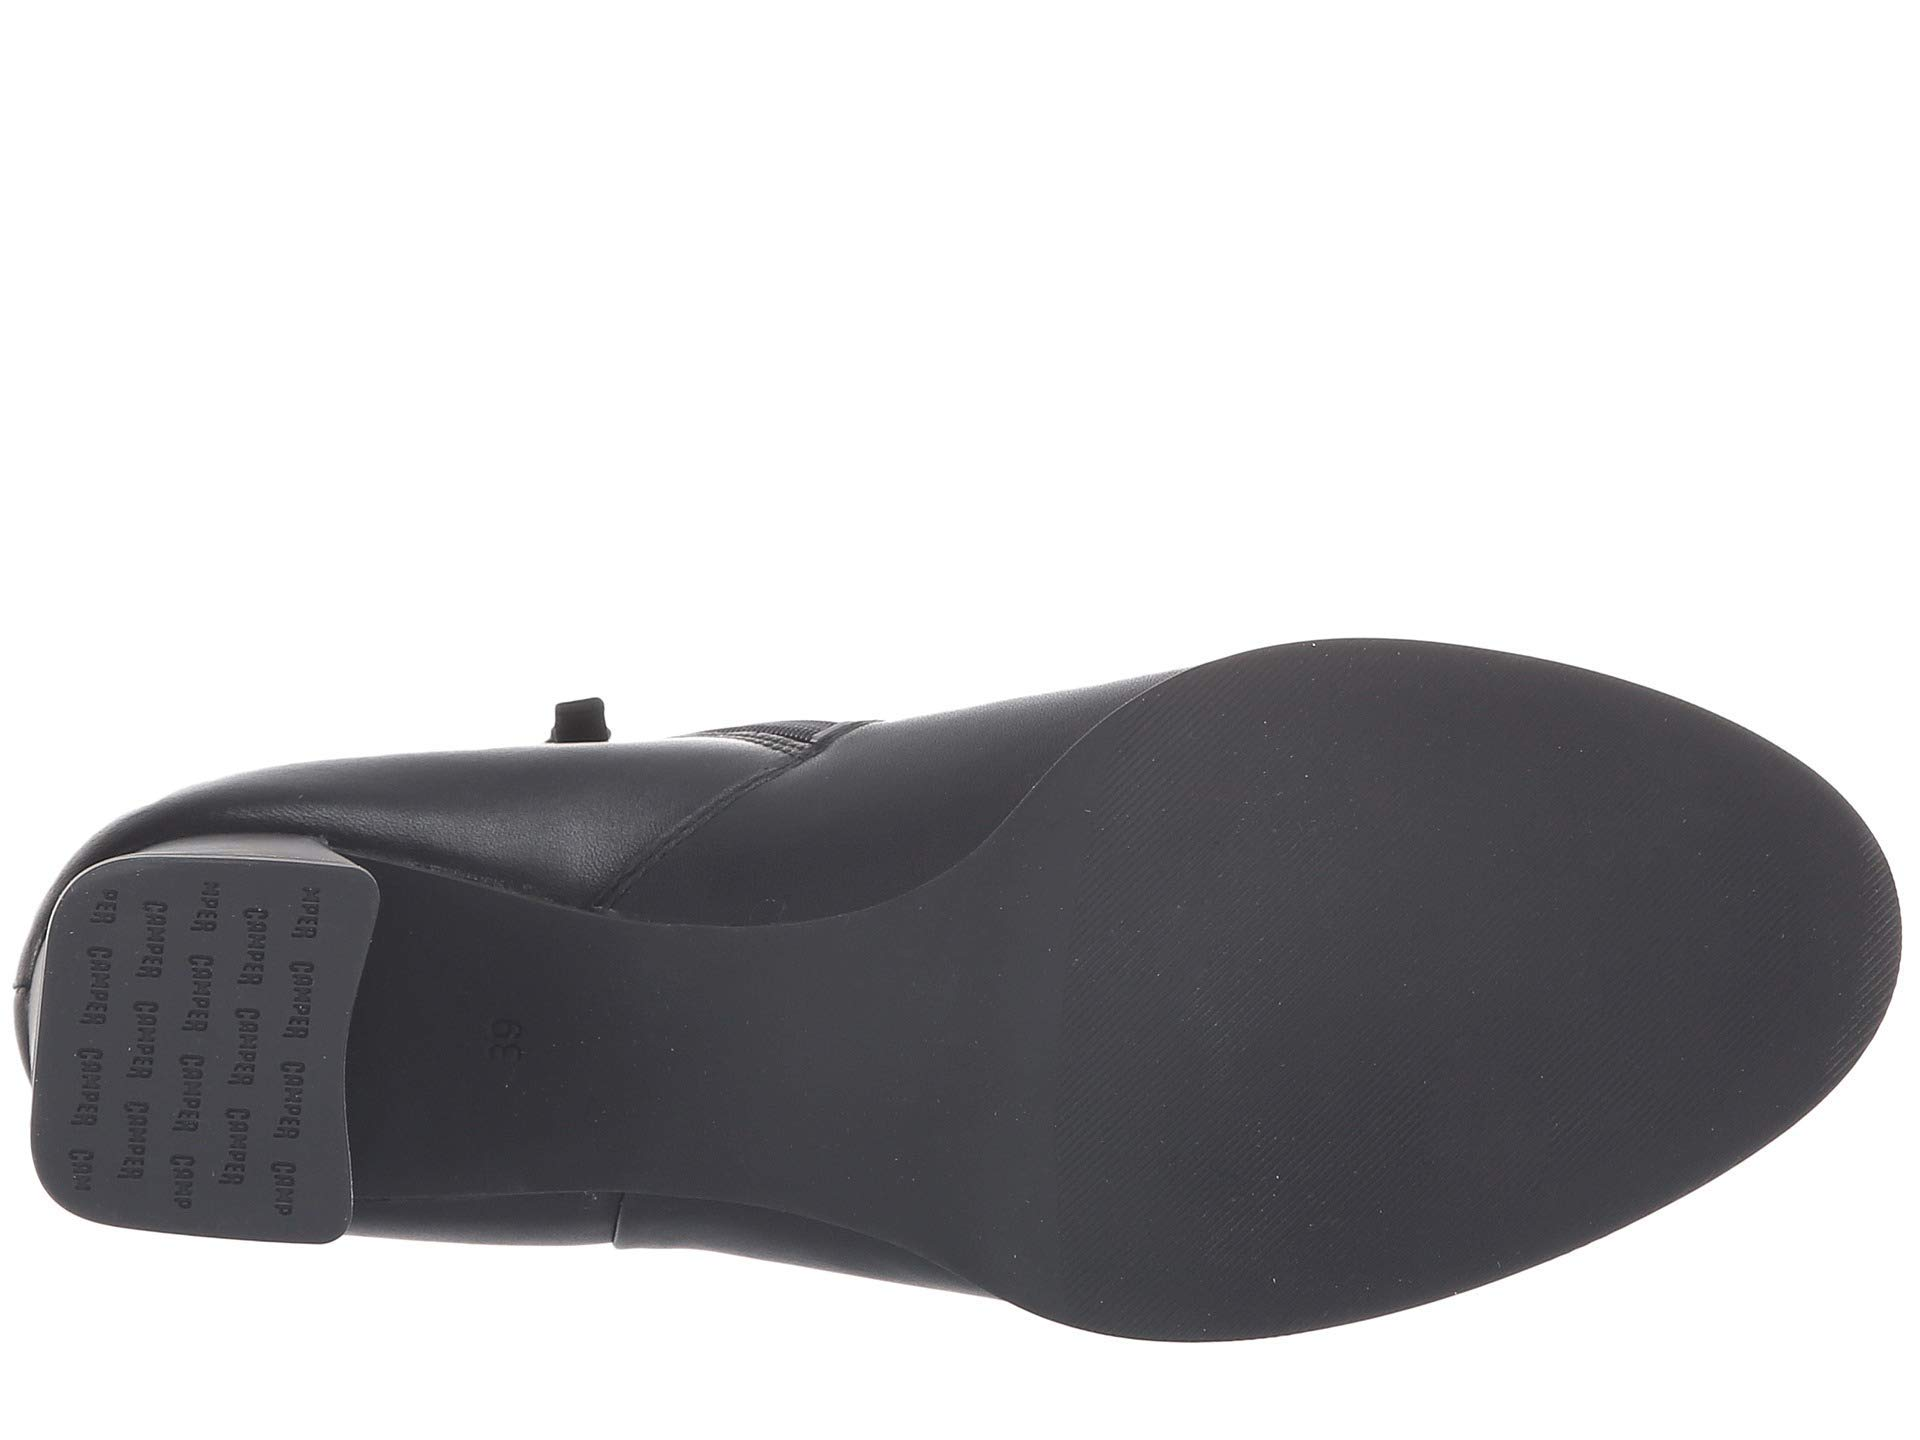text: (101, 905, 327, 1147)
